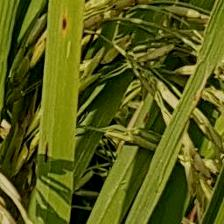0 BrownSpot: (57, 13, 69, 39), (43, 137, 53, 166)
